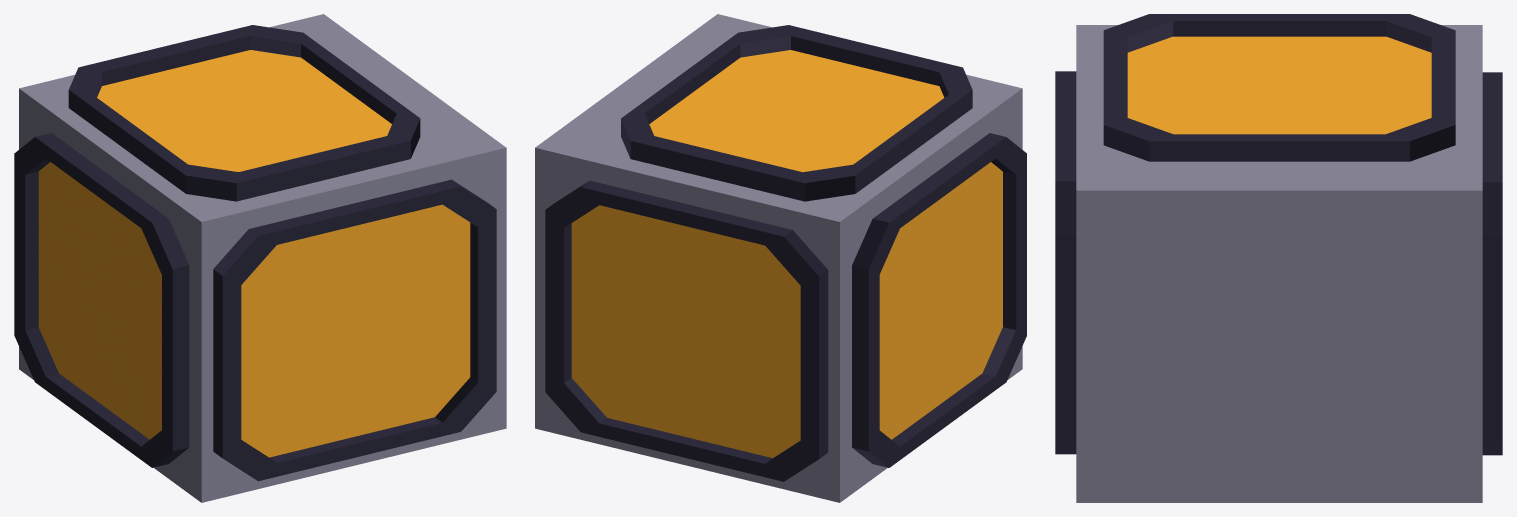
The model's file is SM_balcony_big.fbx.
3 views of the same model, side by side, from view 1: azimuth 30°, elevation 25°; view 2: azimuth 150°, elevation 25°; view 3: azimuth 270°, elevation 25° (orthographic). The views are drawn at different scales.
Visible parts, largest first — view 1: big.007; view 2: big.007; view 3: big.007.
Boxes of the visible parts, box(x1,y1,x2,y2) form: big.007: box(14, 14, 506, 502); big.007: box(535, 14, 1026, 502); big.007: box(1055, 14, 1502, 502).
Size of the model in its own units: 792 by 705 by 859.
